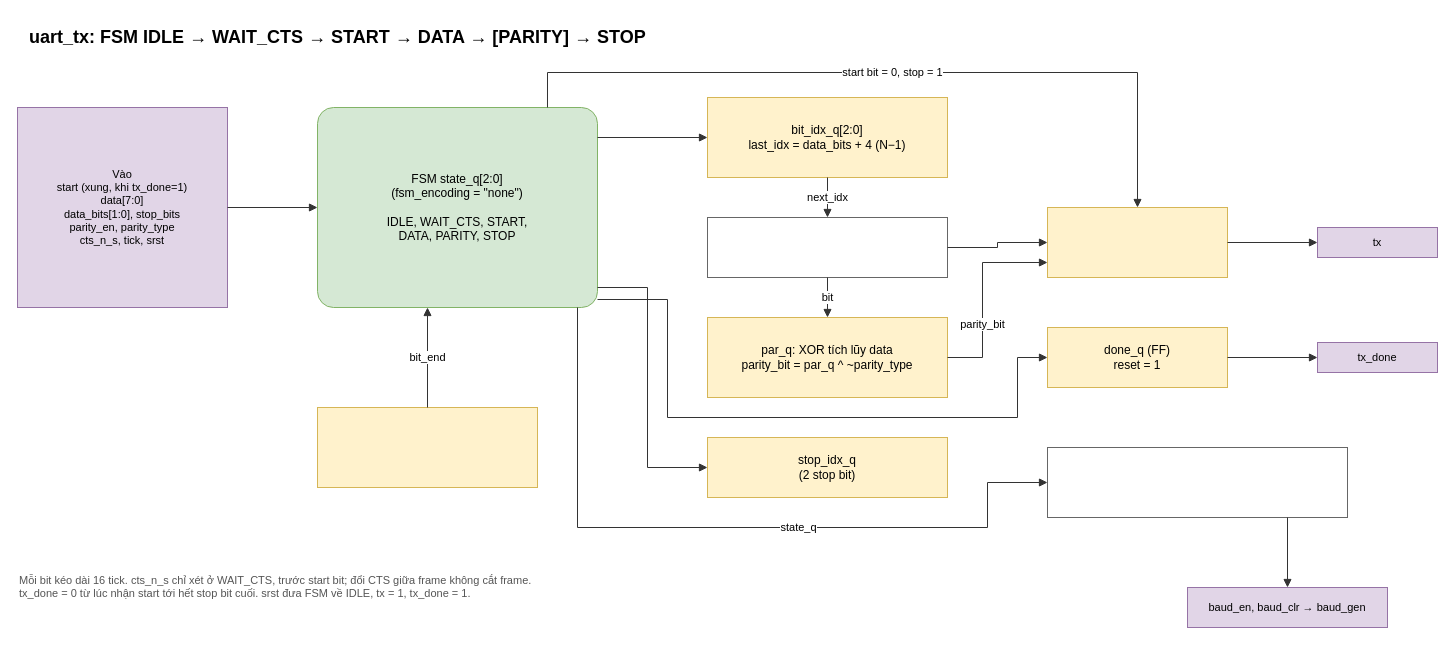
This 1455x664 diagram has some shape labels left out. Each missing label, with the box of its shape:
baud_clr = WAIT_CTS & ~cts_n_s baud_en = state ≥ START: (1046, 446, 1348, 518)
data[next_idx]: (706, 216, 948, 278)
tick_cnt_q[3:0] bit_end = tick & (cnt == 15): (316, 406, 538, 488)
tx_q (FF) reset = 1: (1046, 206, 1228, 278)
